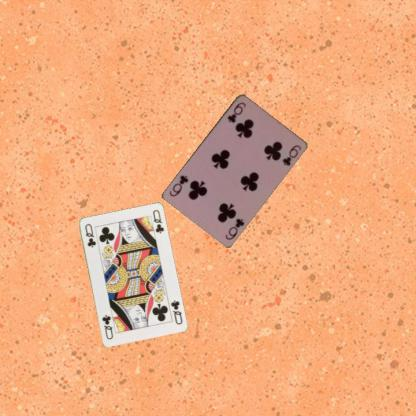6c: (223, 215, 245, 241), (224, 100, 247, 124)
Qc: (168, 297, 184, 326), (82, 221, 97, 248)
